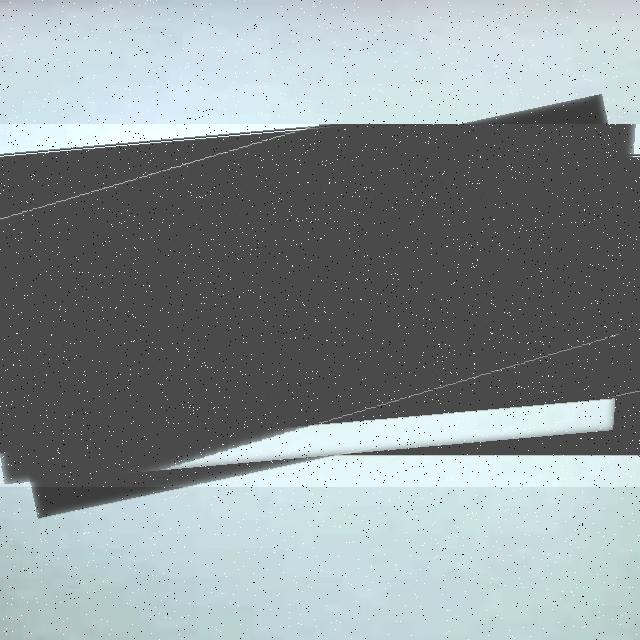lima puluh ribu rupiah: (0, 124, 640, 487)
